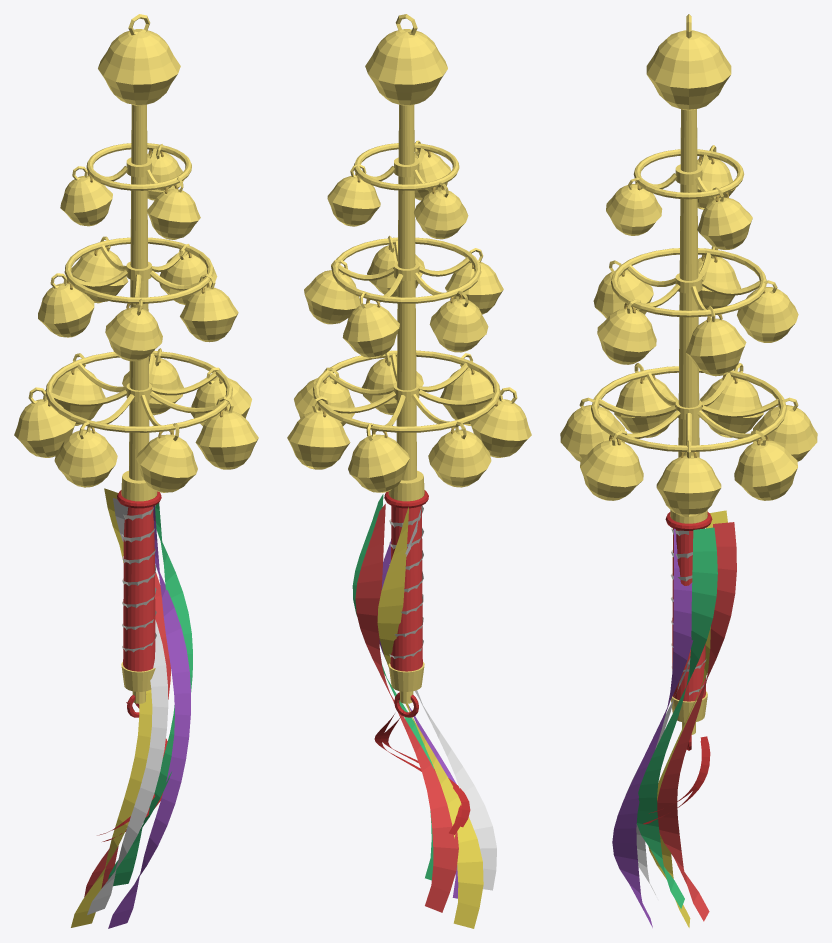
Rendered from ritual_suzu.glb.
The picture shows the model from 3 angles, left to right: view 1: azimuth 30°, elevation 25°; view 2: azimuth 150°, elevation 25°; view 3: azimuth 270°, elevation 25°; orthographic projection. The views are drawn at different scales.
Parts seen in each view (by area): view 1: Ribbon_Purple, Handle_WoodGrip, Finial_CrownSuzu, Staff_CentralSpindle, Ribbon_White, Ribbon_Yellow, Ribbon_Green, Suzu_T1_7, Suzu_T1_6, Suzu_T1_5, Ring_Frame_1, Suzu_T1_4 (+17 smaller); view 2: Ribbon_Red, Ribbon_Yellow, Staff_CentralSpindle, Finial_CrownSuzu, Handle_WoodGrip, Suzu_T1_2, Suzu_T1_3, Suzu_T1_4, Ring_Frame_1, Ribbon_White, Suzu_T1_5, Suzu_T2_3 (+18 smaller); view 3: Ribbon_Green, Ribbon_Red, Staff_CentralSpindle, Finial_CrownSuzu, Ribbon_Purple, Suzu_T1_1, Suzu_T1_2, Suzu_T1_7, Ring_Frame_1, Suzu_T2_1, Suzu_T2_5, Suzu_T2_2 (+14 smaller).
Part boxes in pixels (bbox=[...]): Ribbon_Purple: bbox=[108, 505, 190, 928]; Handle_WoodGrip: bbox=[123, 506, 155, 671]; Finial_CrownSuzu: bbox=[98, 14, 180, 105]; Staff_CentralSpindle: bbox=[129, 104, 149, 480]; Ribbon_White: bbox=[87, 498, 168, 914]; Ribbon_Yellow: bbox=[71, 488, 152, 927]; Ribbon_Green: bbox=[108, 503, 192, 886]; Suzu_T1_7: bbox=[195, 396, 258, 469]; Suzu_T1_6: bbox=[136, 423, 197, 492]; Suzu_T1_5: bbox=[54, 421, 117, 487]; Ring_Frame_1: bbox=[45, 350, 232, 432]; Suzu_T1_4: bbox=[14, 387, 75, 457]; Ribbon_Red: bbox=[355, 504, 458, 912]; Ribbon_Yellow: bbox=[377, 507, 483, 928]; Staff_CentralSpindle: bbox=[396, 104, 416, 480]; Finial_CrownSuzu: bbox=[365, 14, 447, 105]; Handle_WoodGrip: bbox=[390, 506, 422, 671]; Suzu_T1_2: bbox=[287, 396, 350, 469]; Suzu_T1_3: bbox=[348, 423, 409, 492]; Suzu_T1_4: bbox=[428, 421, 491, 487]; Ring_Frame_1: bbox=[313, 350, 500, 432]; Ribbon_White: bbox=[405, 506, 496, 890]; Suzu_T1_5: bbox=[470, 387, 531, 457]; Suzu_T2_3: bbox=[429, 291, 488, 352]; Ribbon_Green: bbox=[636, 527, 717, 908]; Ribbon_Red: bbox=[657, 522, 736, 921]; Staff_CentralSpindle: bbox=[678, 109, 699, 457]; Finial_CrownSuzu: bbox=[646, 14, 731, 110]; Ribbon_Purple: bbox=[612, 528, 693, 927]; Suzu_T1_1: bbox=[656, 440, 721, 516]; Suzu_T1_2: bbox=[734, 430, 797, 500]; Suzu_T1_7: bbox=[580, 430, 643, 500]; Ring_Frame_1: bbox=[591, 366, 786, 452]; Suzu_T2_1: bbox=[685, 305, 746, 376]; Suzu_T2_5: bbox=[597, 299, 656, 364]; Suzu_T2_2: bbox=[737, 280, 798, 342].
Bounding box in the file's own units: 0.4764 × 1.95 × 0.4843.
